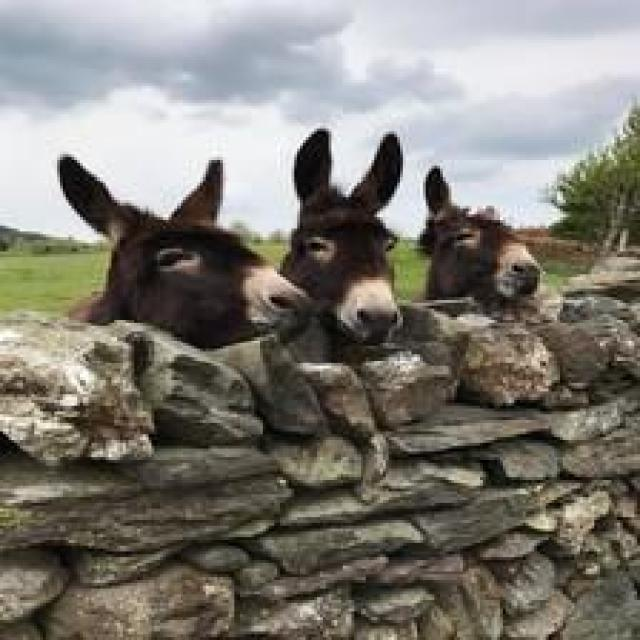Donkey: (54, 152, 314, 348), (277, 126, 403, 346), (414, 163, 543, 308)
